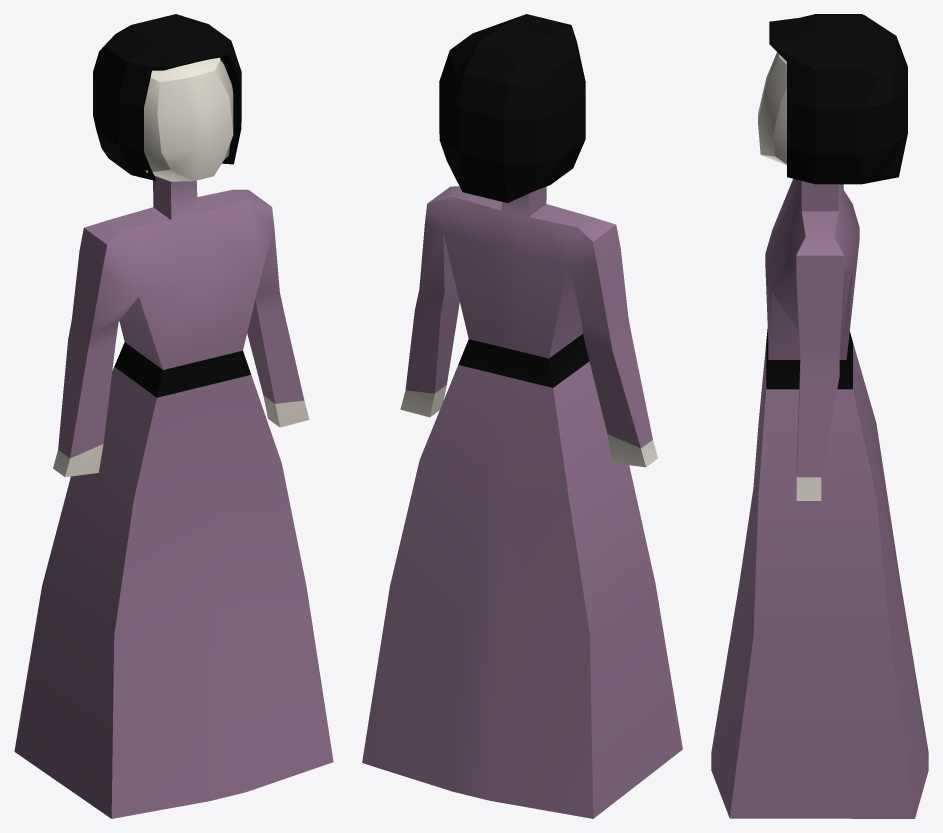
File: Girl.fbx
The picture shows the model from 3 angles, left to right: view 1: azimuth 30°, elevation 25°; view 2: azimuth 150°, elevation 25°; view 3: azimuth 270°, elevation 25°; orthographic projection.
Parts seen in each view (by area): view 1: pCube1, pCube2; view 2: pCube1, pCube2; view 3: pCube1, pCube2.
Boxes of the visible parts, x1=… form: pCube1: x1=14, y1=57, x2=333, y2=818; pCube2: x1=93, y1=14, x2=241, y2=180; pCube1: x1=362, y1=186, x2=682, y2=818; pCube2: x1=439, y1=14, x2=585, y2=202; pCube1: x1=711, y1=52, x2=928, y2=818; pCube2: x1=769, y1=14, x2=907, y2=184.
Bounding box in the file's own units: 1.57 × 4.42 × 1.18.
